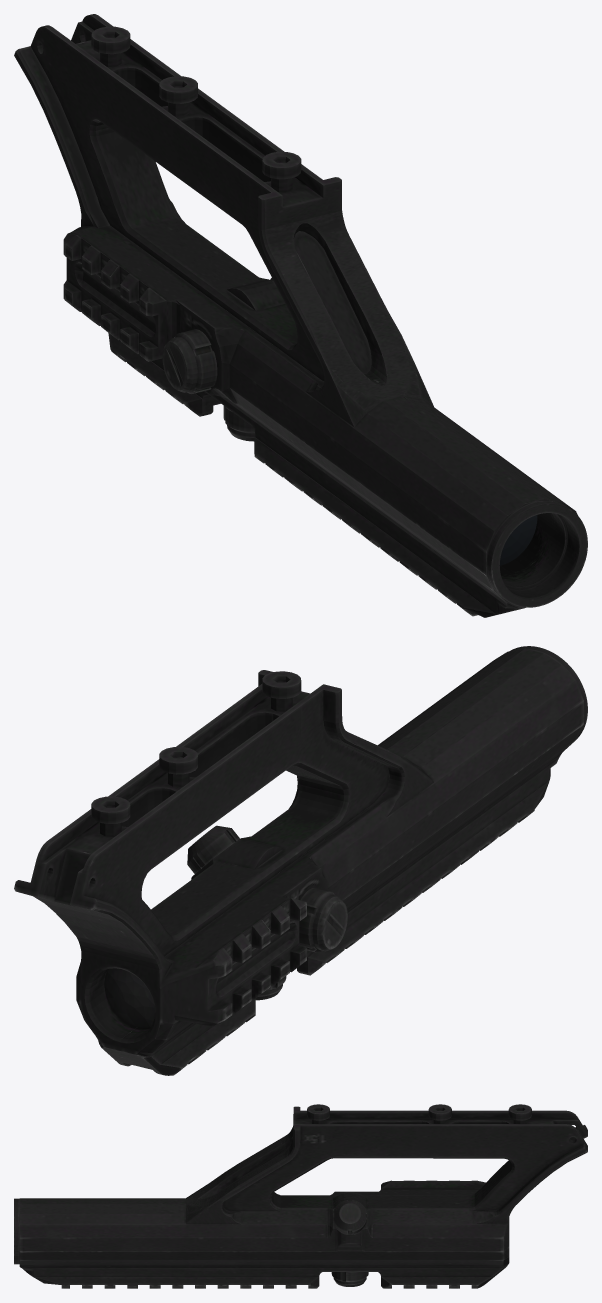
3 renders of one model, top to bottom at view 1: azimuth 30°, elevation 25°; view 2: azimuth 150°, elevation 25°; view 3: azimuth 270°, elevation 25°, orthographic. The views are drawn at different scales.
Parts seen in each view (by area): view 1: TW_62ebd290c427473eff0baafb_PZ_Import; view 2: TW_62ebd290c427473eff0baafb_PZ_Import; view 3: TW_62ebd290c427473eff0baafb_PZ_Import.
Boxes of the visible parts, left/top/right/bottom form: TW_62ebd290c427473eff0baafb_PZ_Import: left=14, top=14, right=587, bottom=617; TW_62ebd290c427473eff0baafb_PZ_Import: left=14, top=646, right=587, bottom=1075; TW_62ebd290c427473eff0baafb_PZ_Import: left=14, top=1104, right=587, bottom=1288.
Size of the model in its own units: 0.0251 by 0.1466 by 0.0484.
Materials: 1 (1 with a texture image).
